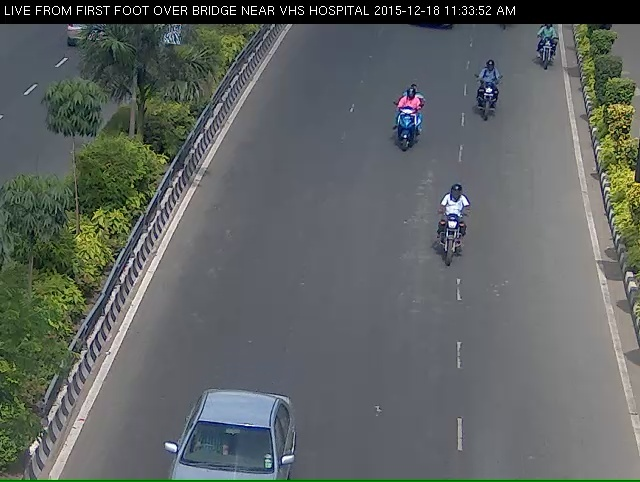Car: (166, 430, 290, 482)
Person: (376, 86, 437, 181), (434, 190, 482, 288), (529, 15, 564, 86), (474, 69, 505, 141)
